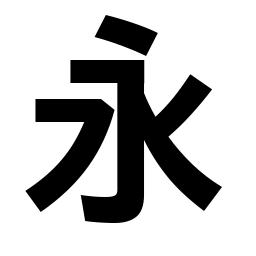D: (93, 12, 162, 56)
HSZ: (111, 58, 145, 93)
Hs: (67, 58, 103, 85)
Ne: (191, 175, 225, 213)
PNc: (148, 107, 174, 147)
PZe: (23, 178, 62, 213)
Ps: (178, 72, 214, 110)
SG: (78, 189, 146, 225)
Sm: (113, 148, 146, 178)
TPZ: (75, 97, 115, 139)
Ts: (33, 96, 63, 125)
